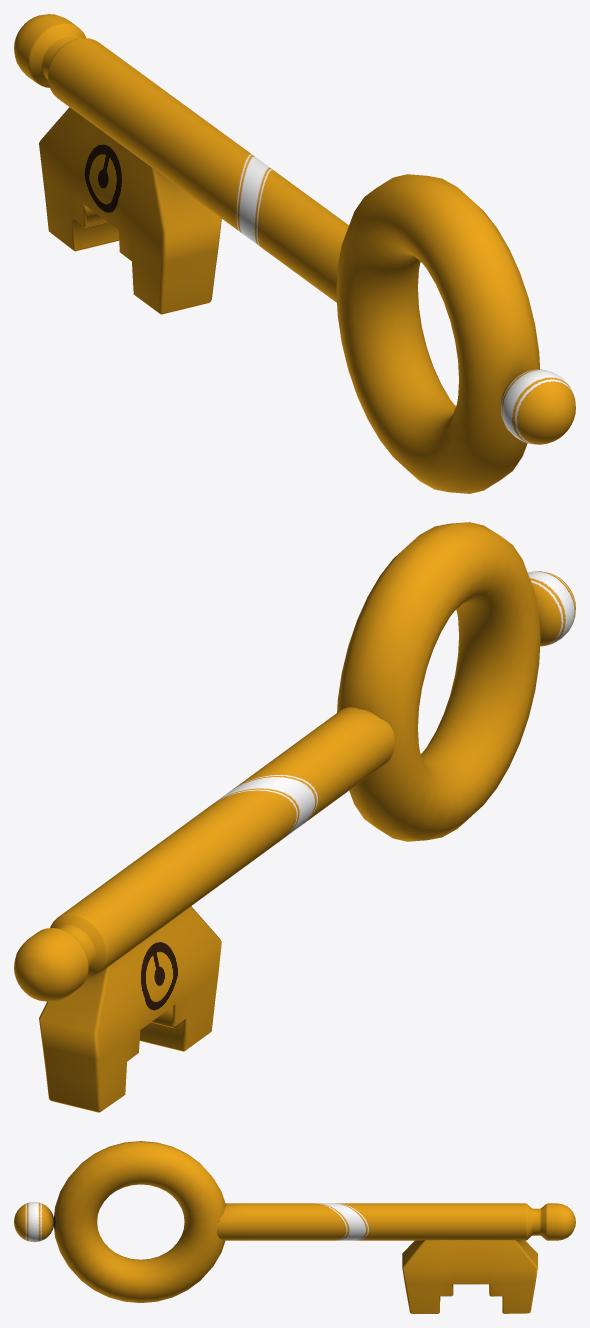
File: key1.fbx
The picture shows the model from 3 angles, top to bottom: view 1: azimuth 30°, elevation 25°; view 2: azimuth 150°, elevation 25°; view 3: azimuth 270°, elevation 25°; orthographic projection. The views are drawn at different scales.
Parts seen in each view (by area): view 1: key_torus, key_mittelteil, key_bart, key_kugel; view 2: key_torus, key_mittelteil, key_bart, key_kugel; view 3: key_torus, key_mittelteil, key_bart, key_kugel.
Part boxes in pixels (left/top/right/bottom): key_torus: left=336, top=174, right=539, bottom=493; key_mittelteil: left=14, top=14, right=348, bottom=302; key_bart: left=39, top=107, right=337, bottom=314; key_kugel: left=500, top=369, right=575, bottom=444; key_torus: left=337, top=522, right=540, bottom=841; key_mittelteil: left=14, top=707, right=394, bottom=1001; key_bart: left=39, top=724, right=395, bottom=1112; key_kugel: left=528, top=571, right=575, bottom=646; key_torus: left=54, top=1141, right=225, bottom=1302; key_mittelteil: left=220, top=1203, right=575, bottom=1240; key_bart: left=217, top=1219, right=537, bottom=1313; key_kugel: left=14, top=1202, right=53, bottom=1242.
Bounding box in the file's own units: 60.21 × 251 × 775.
